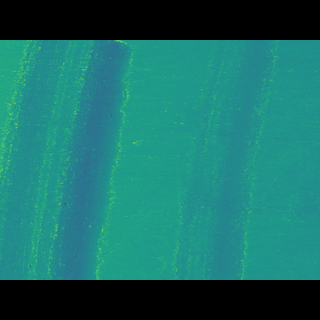Loch: (0, 69, 134, 249), (170, 70, 282, 249)
